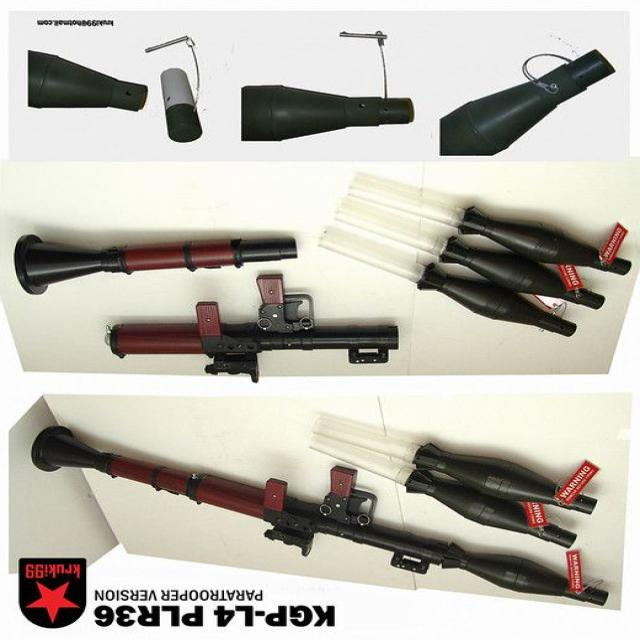Gun: (18, 397, 626, 613)
